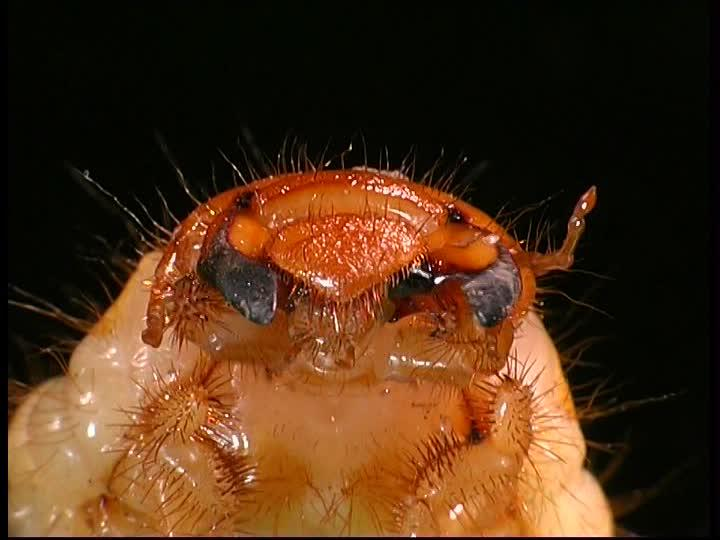grub: (8, 142, 683, 540)
